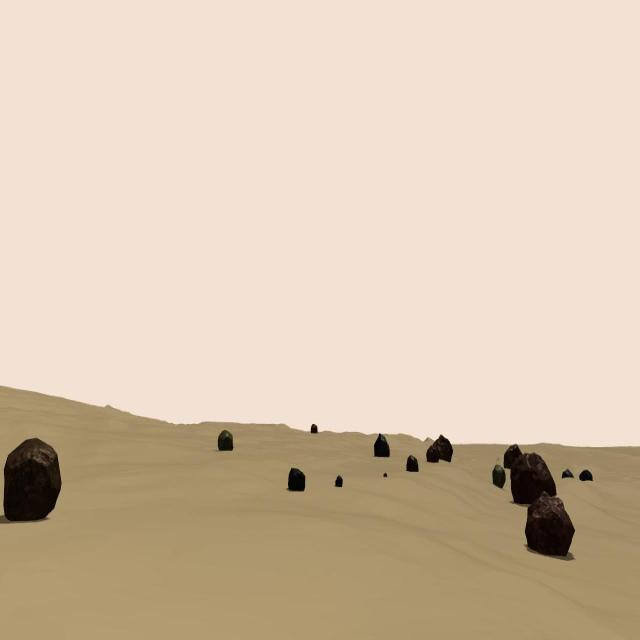rock: (4, 438, 61, 520), (525, 492, 575, 556), (511, 454, 556, 504), (503, 443, 523, 468), (436, 434, 452, 464), (288, 468, 305, 492), (374, 432, 390, 457), (218, 431, 233, 452), (492, 464, 505, 488), (426, 441, 438, 462), (406, 454, 418, 471), (579, 470, 592, 481), (562, 469, 574, 479), (335, 476, 342, 488), (311, 424, 317, 434), (384, 473, 387, 478)
